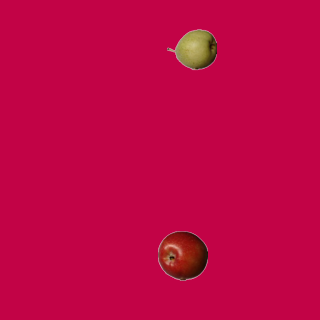Apple Braeburn: (157, 230, 207, 280)
Pear: (166, 24, 216, 74)
